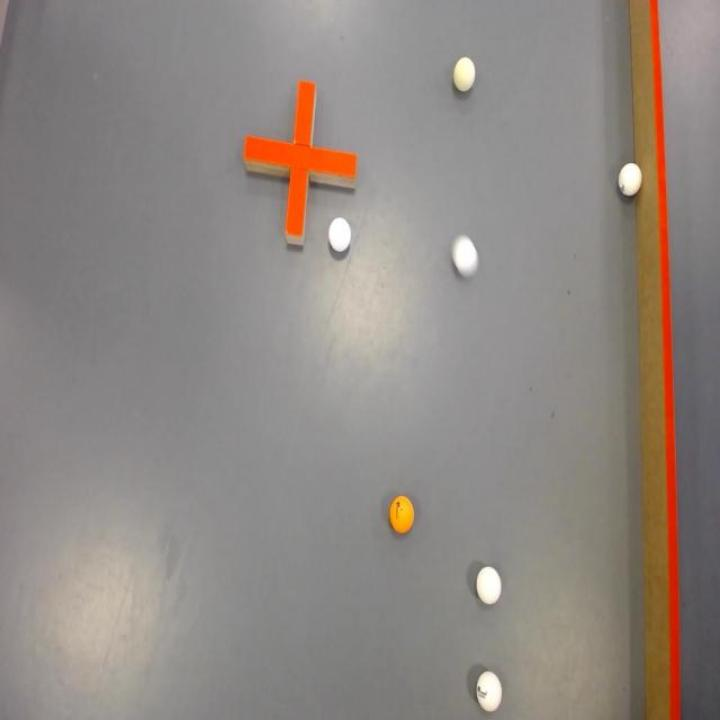orange: (388, 494, 418, 536)
white: (449, 233, 481, 282), (474, 564, 504, 608), (326, 216, 352, 260), (476, 671, 503, 713), (618, 163, 645, 201), (453, 57, 476, 93)
